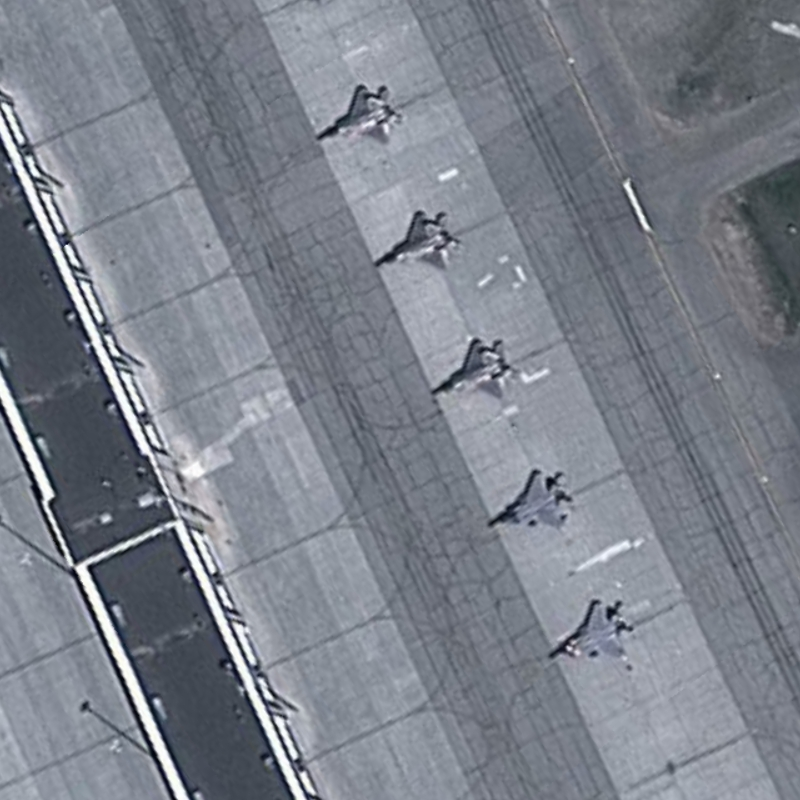A13: (482, 460, 579, 536), (543, 596, 643, 668)
A15: (422, 328, 525, 407), (366, 202, 468, 277), (312, 78, 411, 150)
